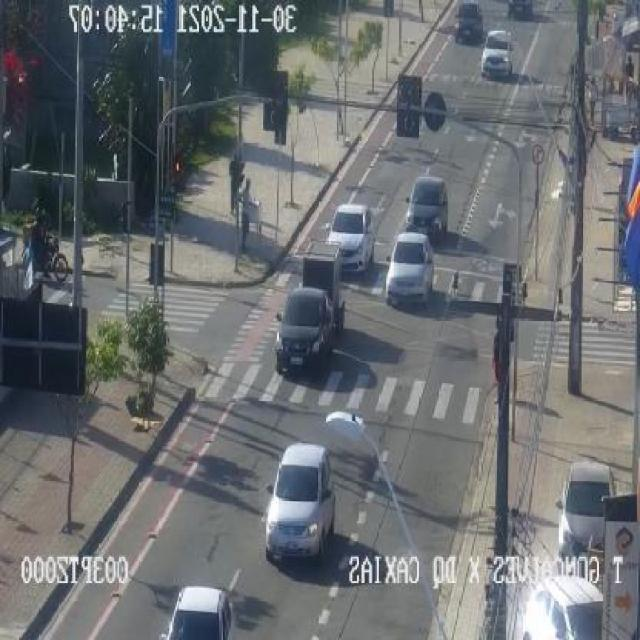Car: (260, 442, 338, 556), (552, 458, 622, 564), (513, 570, 615, 640), (274, 284, 334, 376), (377, 231, 438, 305), (161, 578, 232, 639), (325, 200, 375, 270), (399, 172, 455, 232), (479, 24, 520, 87), (446, 0, 488, 51), (504, 0, 533, 18)
Cycle: (19, 193, 75, 291)
